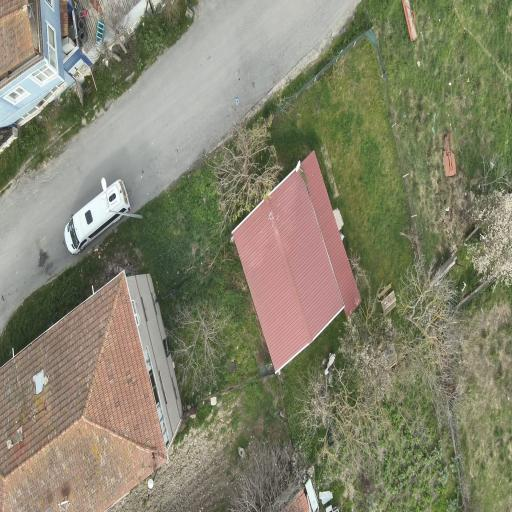bus: (64, 178, 130, 253)
